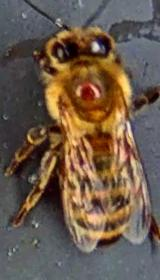varroa_mite: (70, 74, 109, 105)
